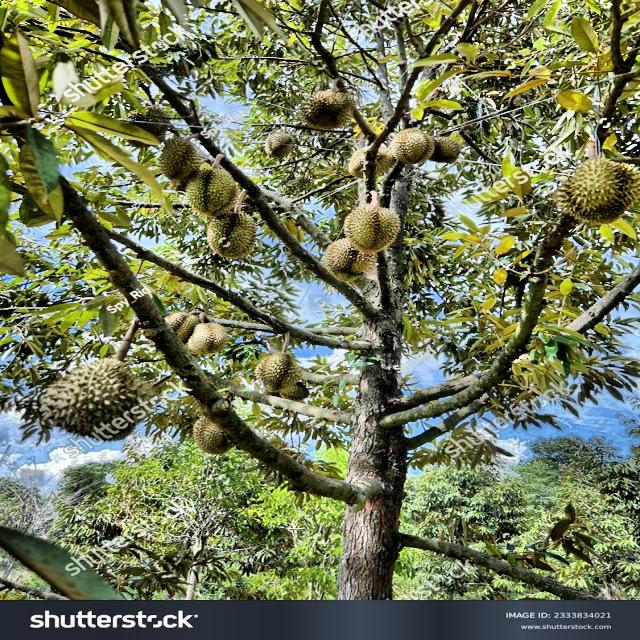arvore: (327, 100, 434, 598)
